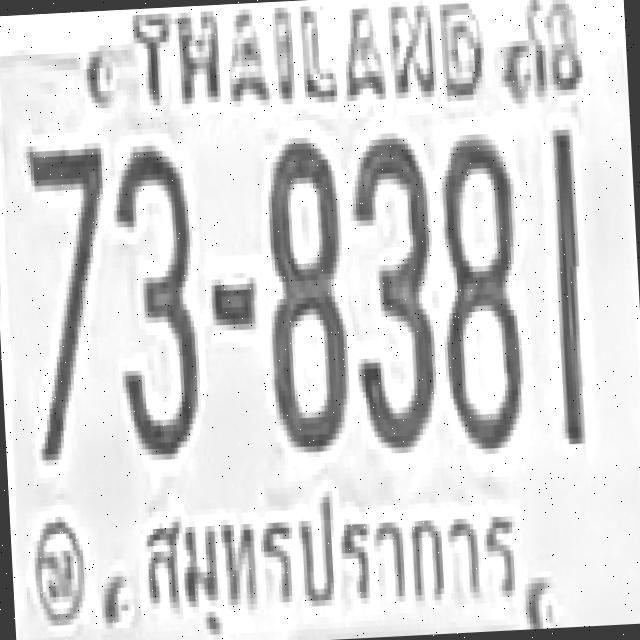1: (546, 123, 589, 444)
3: (344, 132, 438, 450), (106, 138, 200, 456)
7: (21, 140, 115, 458)
8: (433, 127, 524, 450), (258, 134, 349, 452)
SamutPrakan: (131, 468, 524, 634)
